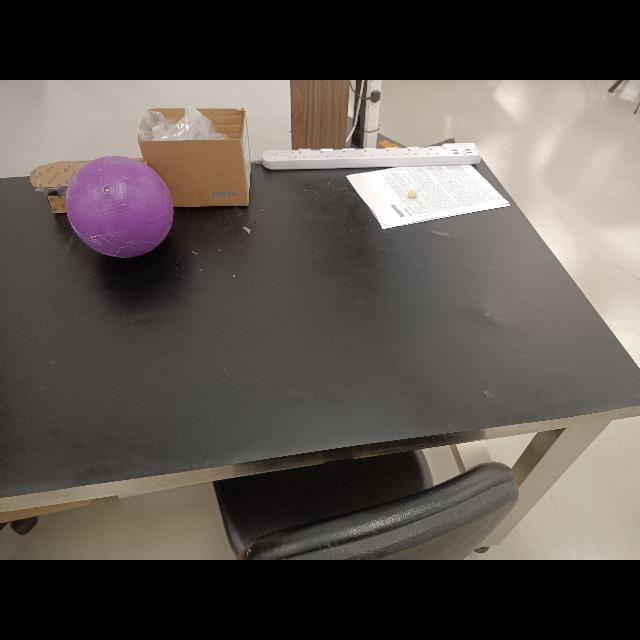P: (64, 157, 176, 260)
